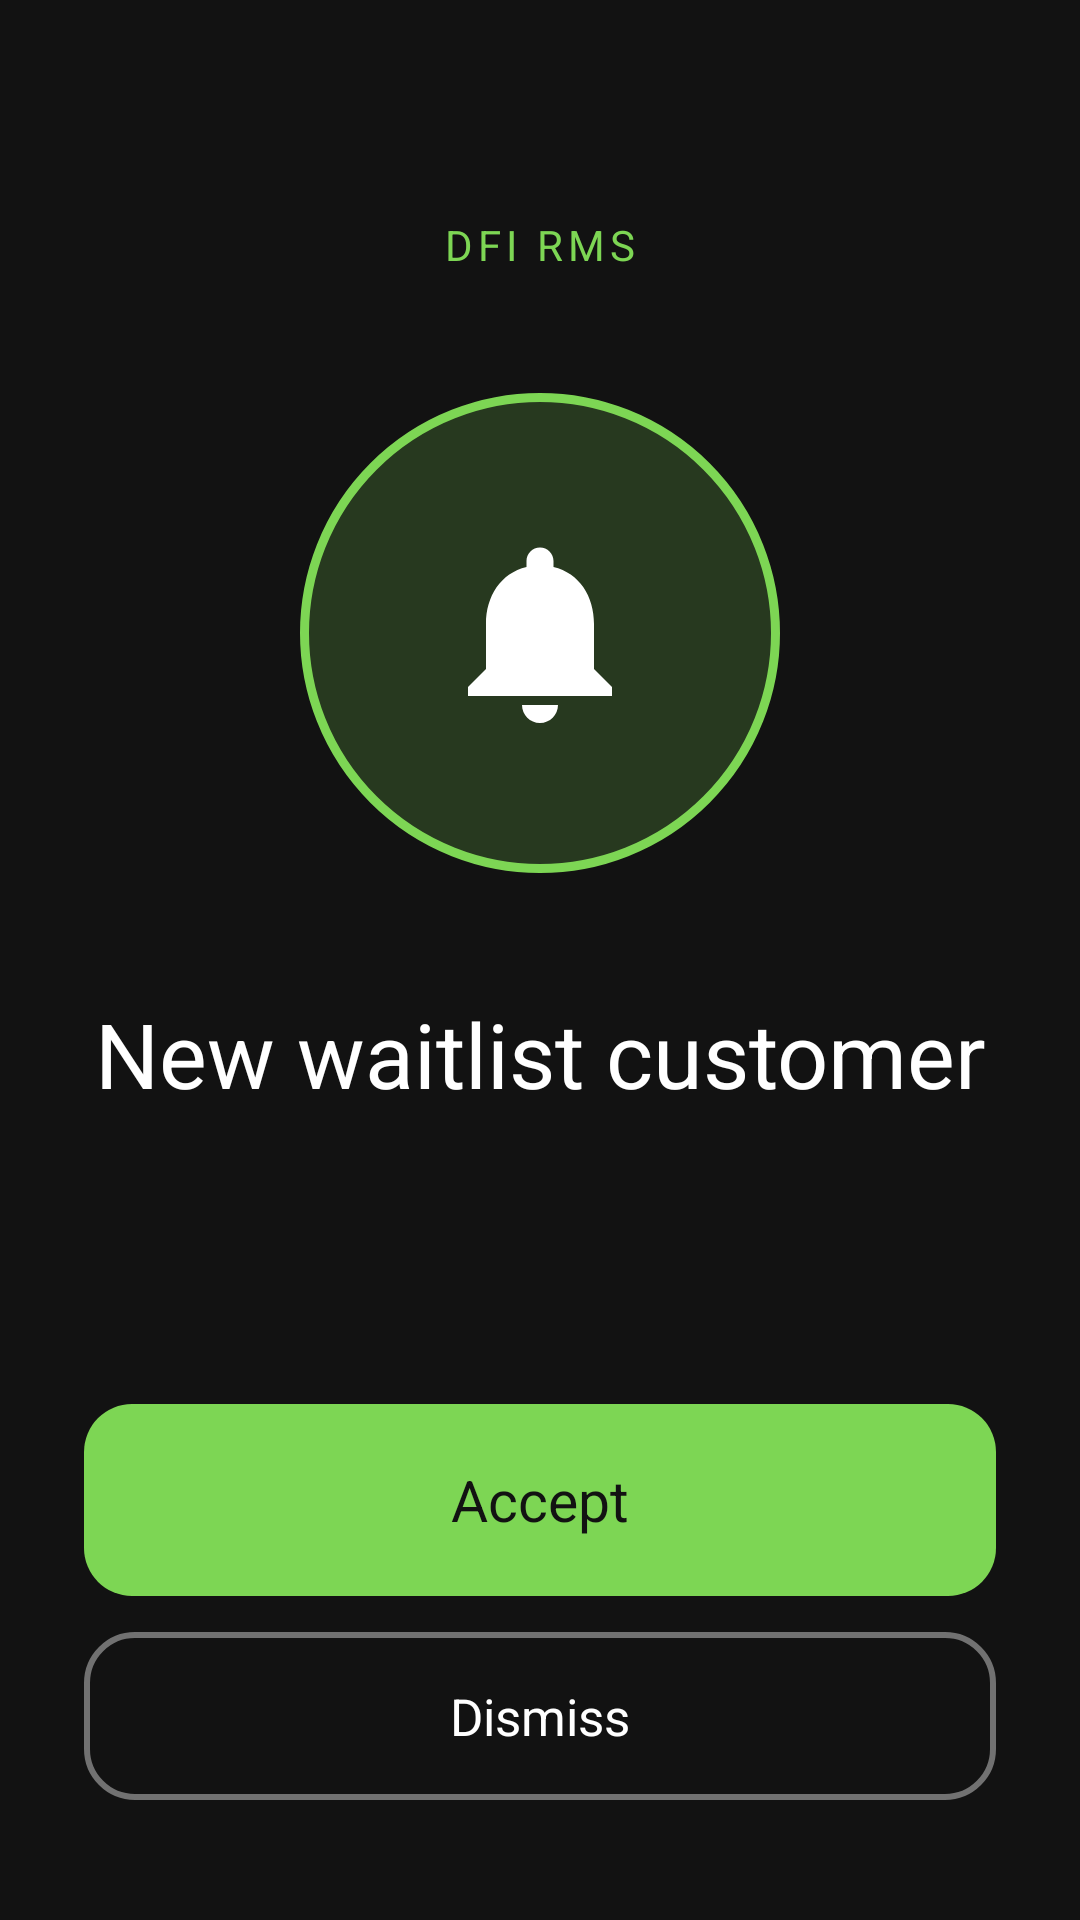

Icons on this 1080px x 1920px Android screen, each with its box as (x1, y1, x2, y2):
Alert: (468, 547, 612, 723)
